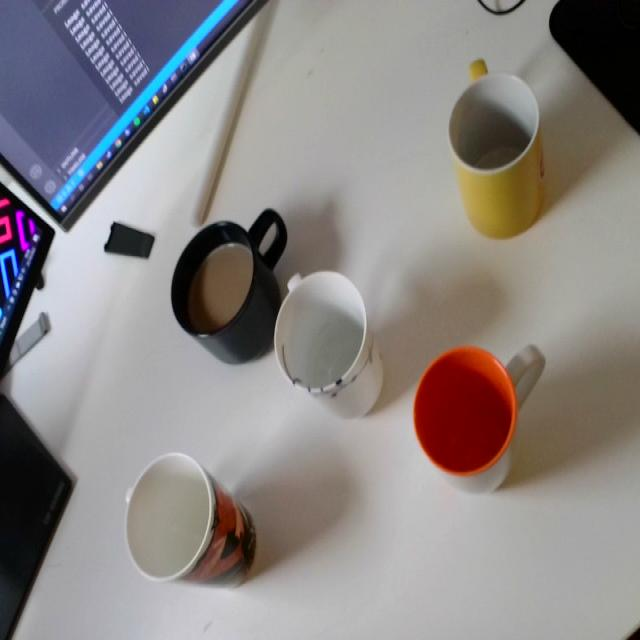Cocio Cup: (448, 69, 548, 241)
Cup: (166, 205, 286, 367)
Halloween cup: (123, 452, 262, 596)
Hand painted cup: (272, 268, 386, 423)
White Cup: (410, 341, 549, 498)
